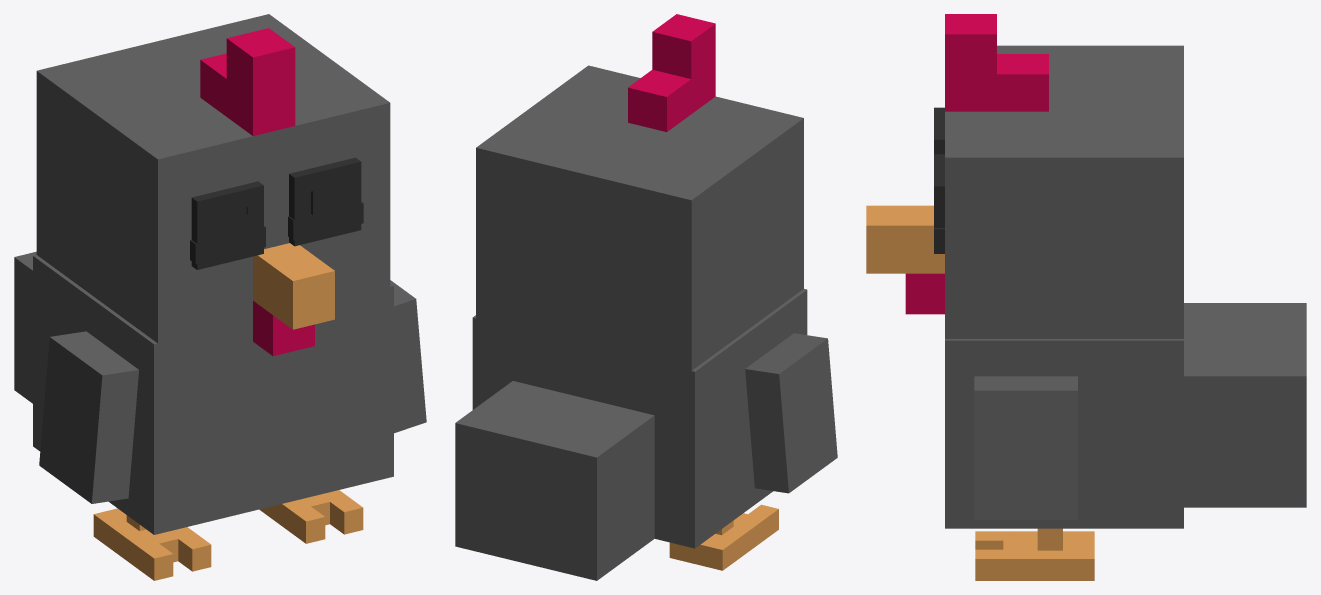
3 renders of one model, left to right at view 1: azimuth 30°, elevation 25°; view 2: azimuth 150°, elevation 25°; view 3: azimuth 270°, elevation 25°, orthographic. The views are drawn at different scales.
Parts seen in each view (by area): view 1: Ch_13_Head, Ch_13, Ch_13_Wing_L, Ch_13_Leg_L, Ch_13_Wing_R, Ch_13_Leg_R, Ch_13_Eye_01, Ch_13_Eye_03_L, Ch_13_Eye_03_R, Ch_13_Eye_02; view 2: Ch_13_Head, Ch_13, Ch_13_Wing_L, Ch_13_Leg_L; view 3: Ch_13_Head, Ch_13, Ch_13_Wing_R, Ch_13_Leg_R, Ch_13_Eye_03_R.
Part boxes in pixels (x1,y1,x2,y2): Ch_13_Head: [36, 14, 390, 356]; Ch_13: [14, 251, 393, 534]; Ch_13_Wing_L: [39, 331, 138, 503]; Ch_13_Leg_L: [93, 508, 211, 580]; Ch_13_Wing_R: [390, 280, 426, 433]; Ch_13_Leg_R: [259, 490, 363, 543]; Ch_13_Eye_01: [212, 177, 346, 254]; Ch_13_Eye_03_L: [191, 181, 263, 269]; Ch_13_Eye_03_R: [289, 157, 361, 246]; Ch_13_Eye_02: [190, 202, 363, 263]; Ch_13_Head: [476, 14, 803, 370]; Ch_13: [455, 289, 807, 580]; Ch_13_Wing_L: [745, 333, 837, 493]; Ch_13_Leg_L: [669, 504, 778, 570]; Ch_13_Head: [866, 14, 1183, 338]; Ch_13: [945, 303, 1306, 528]; Ch_13_Wing_R: [974, 376, 1077, 519]; Ch_13_Leg_R: [975, 528, 1094, 580]; Ch_13_Eye_03_R: [934, 154, 944, 253].
Size of the model in its own units: 8.4 by 12.32 by 9.7.
